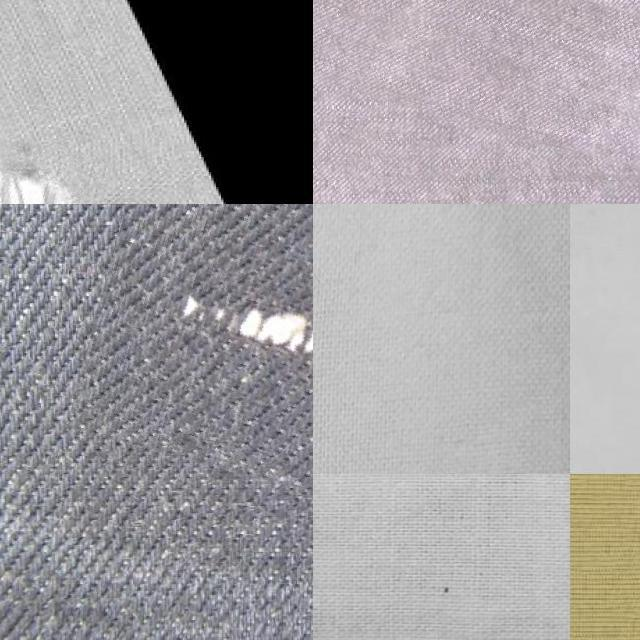other: (0, 130, 106, 204)
stains: (85, 204, 313, 517), (313, 0, 640, 143)
